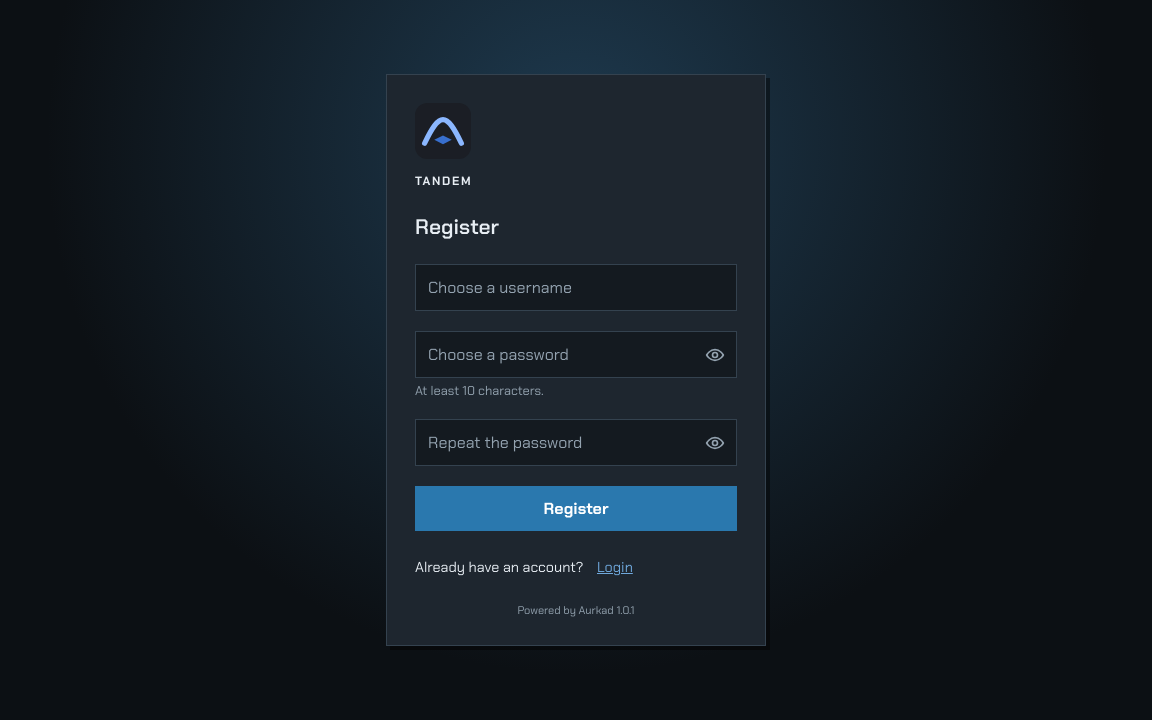
Test: Register › refuses a short password and a repeat that does not match
Expected: the text "Tandem" is shown, 415,173 -> 472,189
Type "alice" into the field with placeholder "Choose a username" at [576, 288], box 415,264 -> 737,311
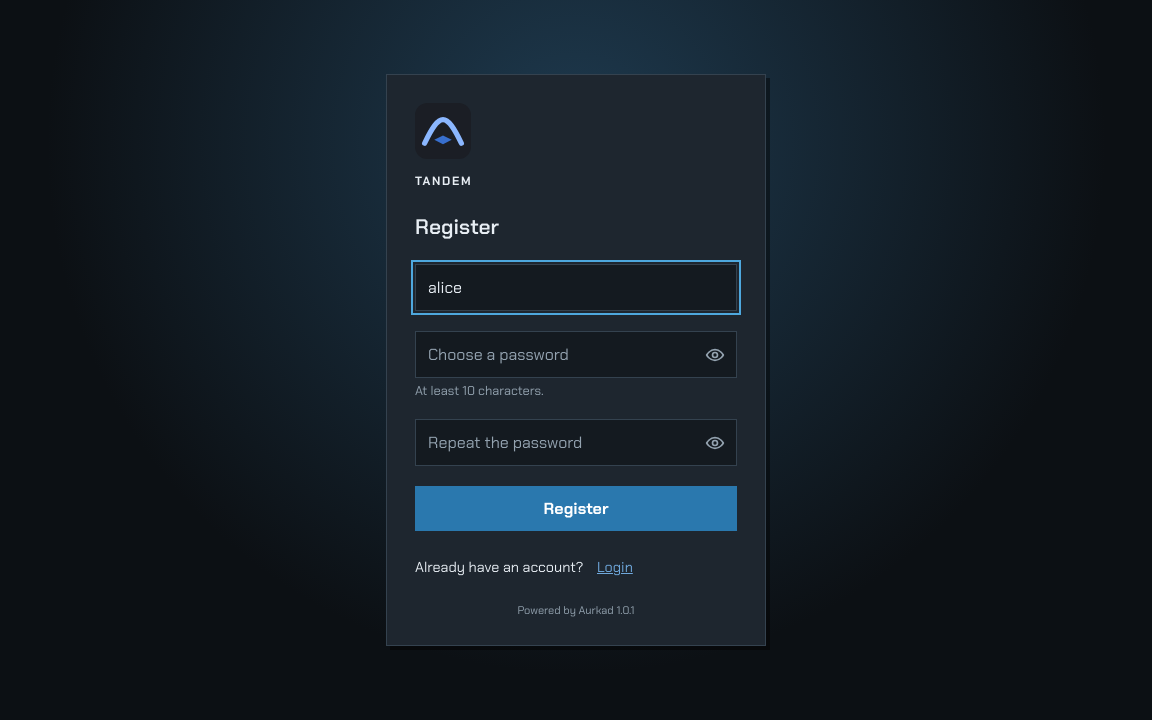
Type "short" into the password field with placeholder "Choose a password" at [576, 354], box 415,331 -> 737,378
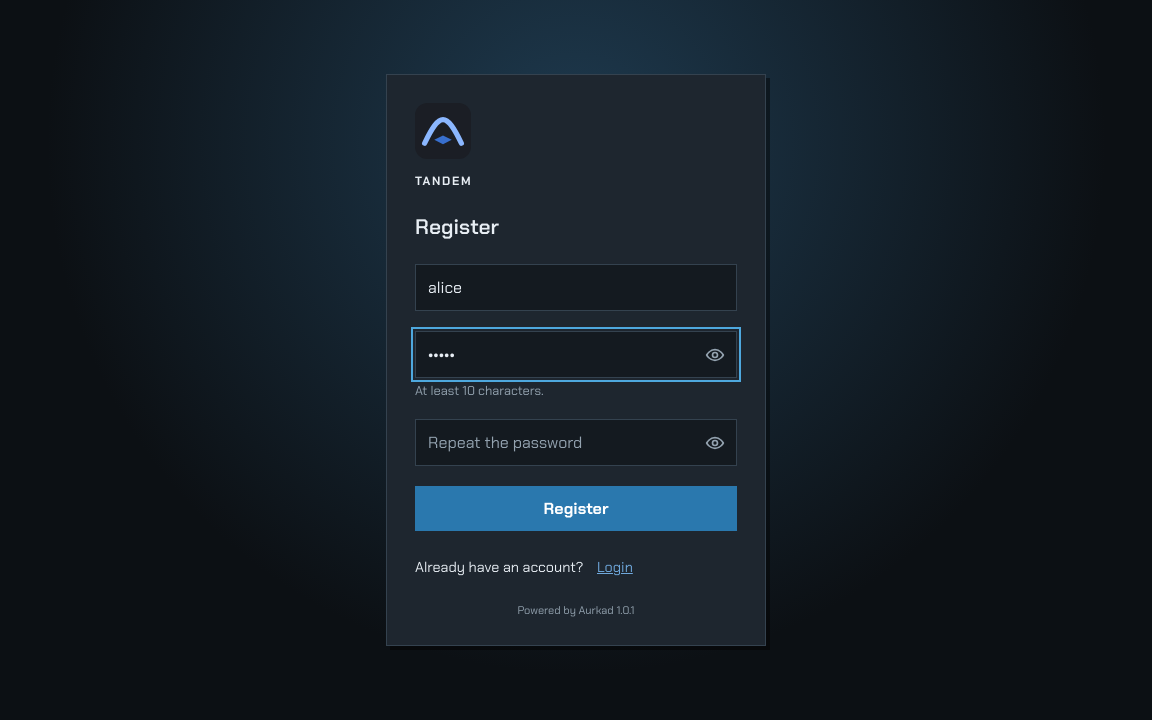
Type "shorter" into the password field with placeholder "Repeat the password" at [576, 442], box 415,419 -> 737,466
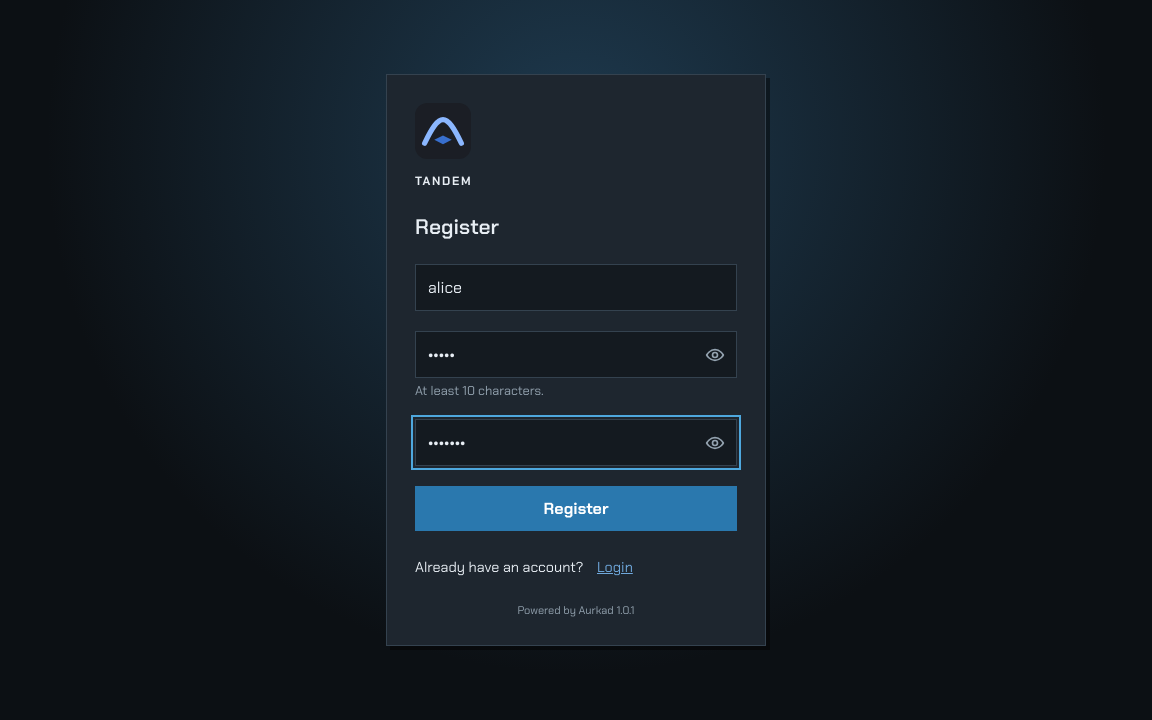
Click the button "Register" at [576, 508], box 415,486 -> 737,531
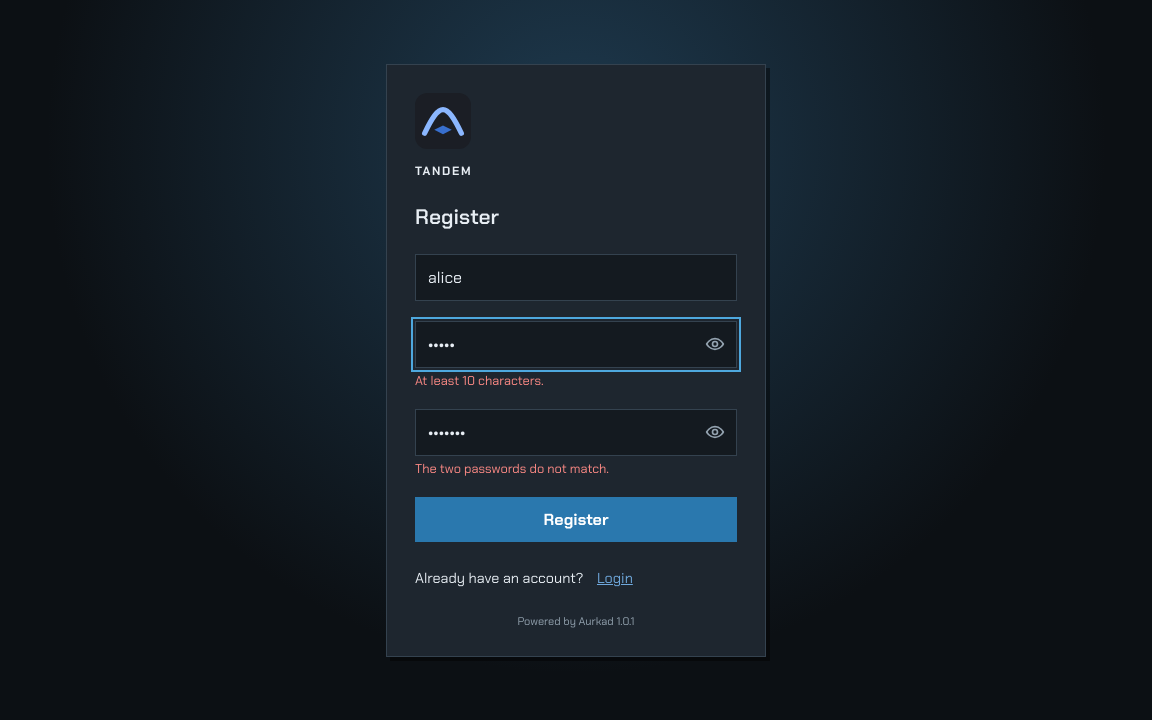
Expected: the text "The two passwords do not match." is shown, 415,460 -> 609,476
